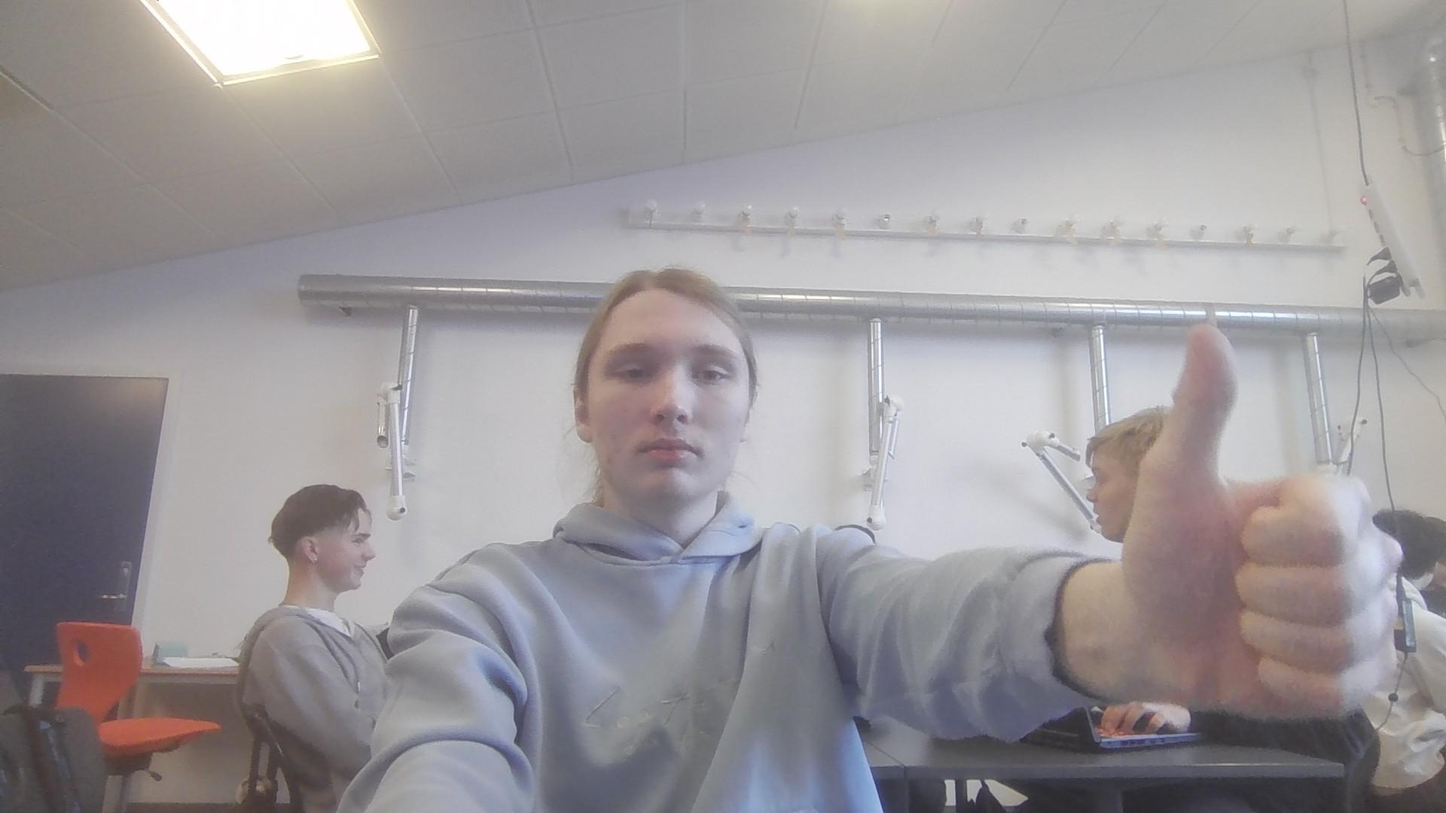thumbs up: (1118, 321, 1408, 725)
